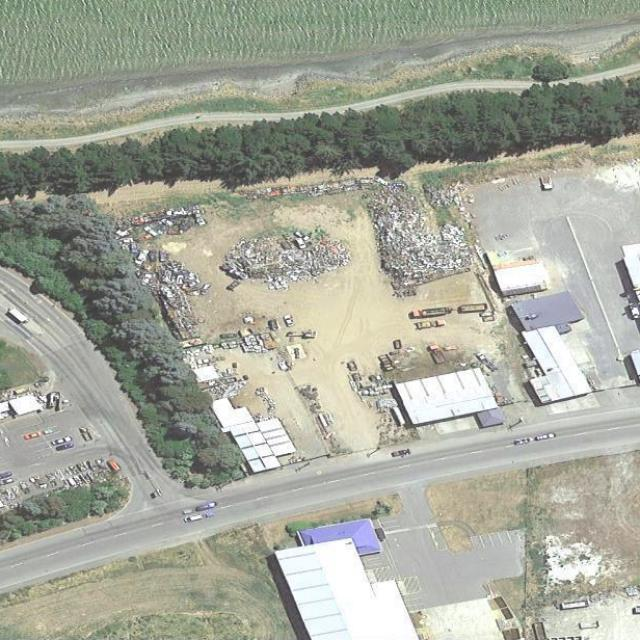dump_site: (357, 185, 478, 296), (212, 232, 307, 302)
